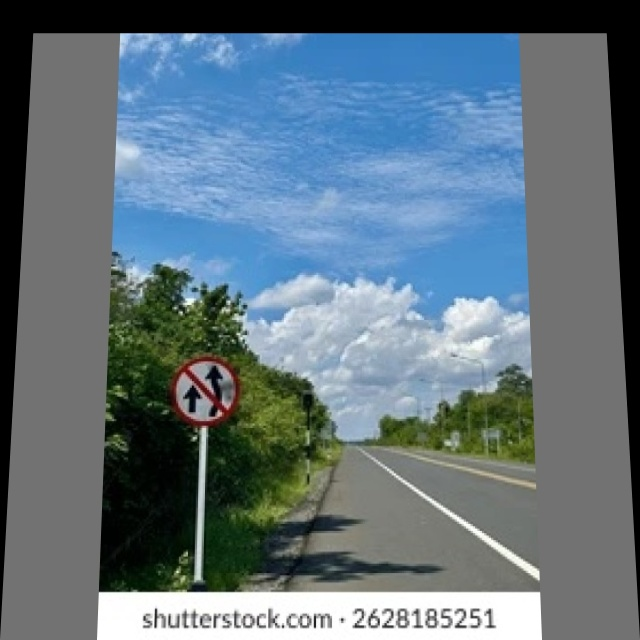Overtaking_Prohibited: (167, 358, 240, 425)
